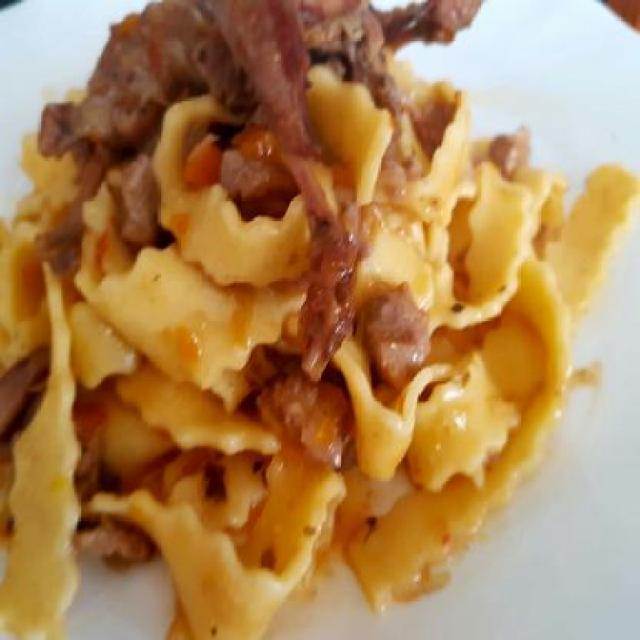Pasta al ragu: (17, 19, 596, 638)
